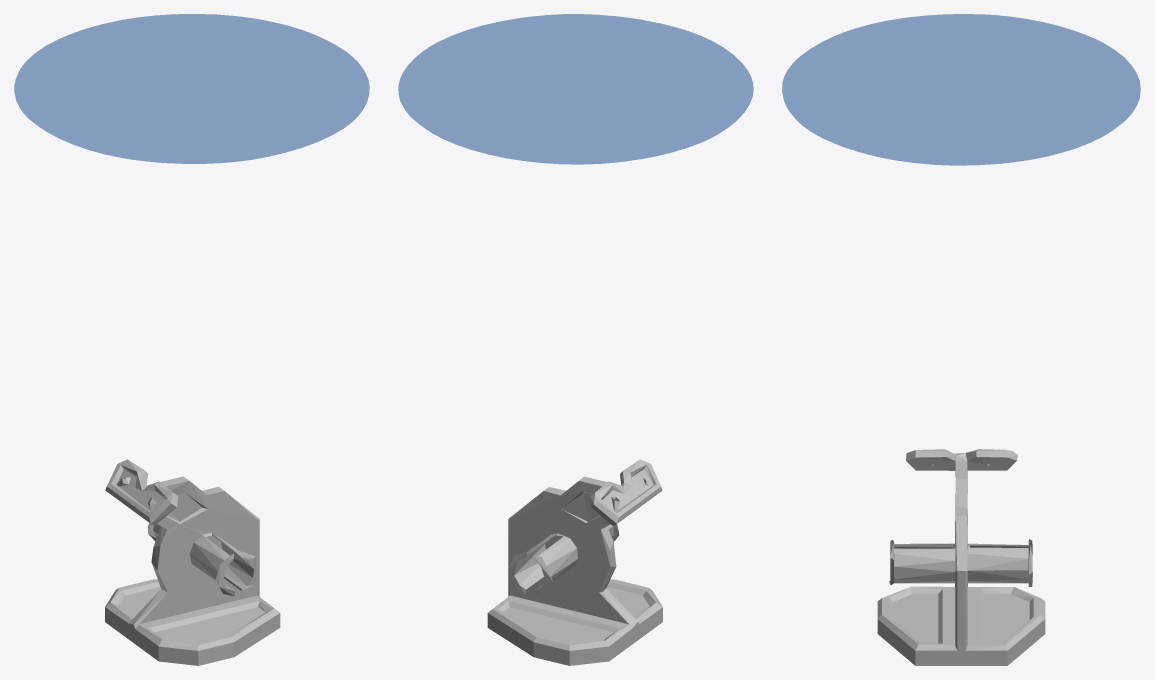
The model's file is init.glb.
3 renders of one model, left to right at view 1: azimuth 30°, elevation 25°; view 2: azimuth 150°, elevation 25°; view 3: azimuth 270°, elevation 25°, orthographic.
Parts seen in each view (by area): view 1: world, object.obj; view 2: world, object.obj; view 3: world, object.obj.
Boxes of the visible parts, x1,y1,x2,y2 form: world: [14, 14, 369, 163]; object.obj: [105, 459, 280, 665]; world: [398, 14, 753, 164]; object.obj: [487, 459, 662, 665]; world: [782, 14, 1140, 165]; object.obj: [877, 449, 1045, 665].
Bounding box in the file's own units: 0.5978 × 1 × 0.5978.
